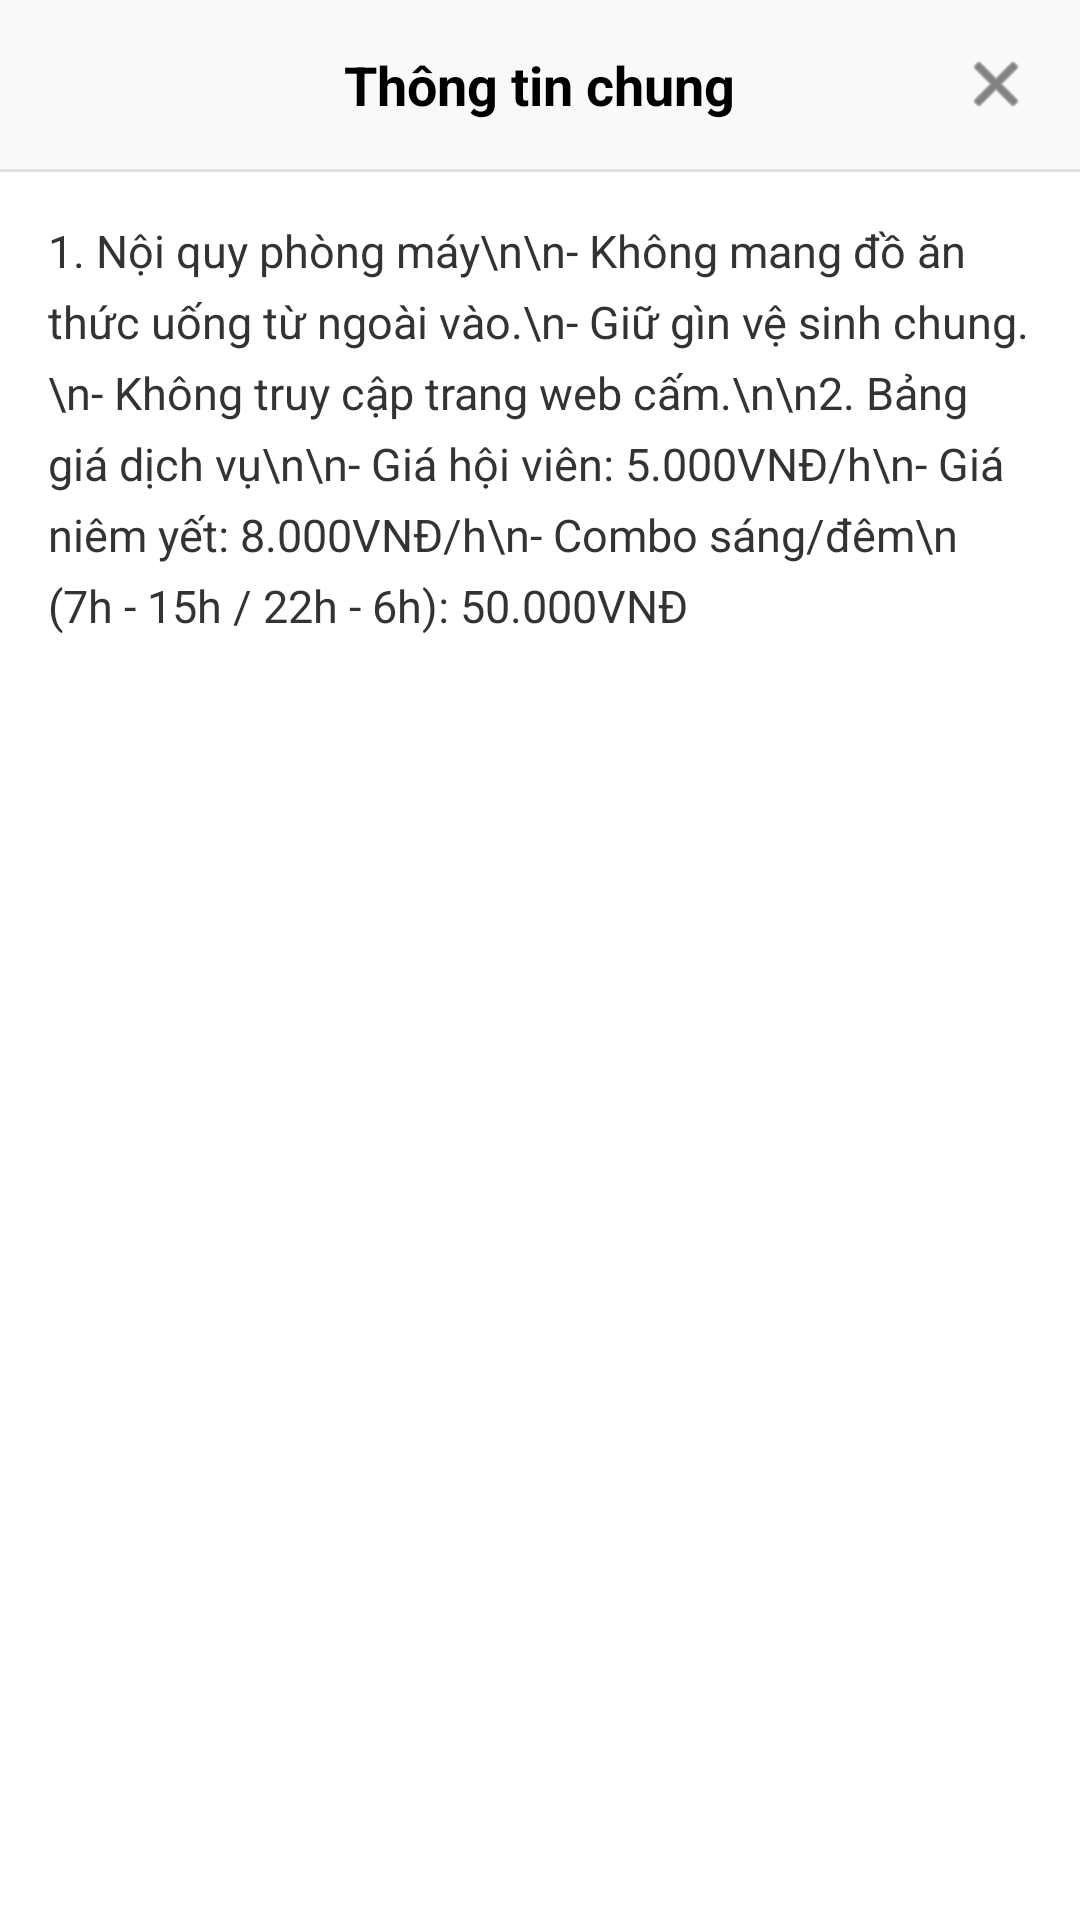

Where icons sit on this 1080×1920 app screen, as [x1=x1, y1=y1, x2=x2, y2=y2]:
close clear cancel: [x1=974, y1=62, x2=1018, y2=106]
